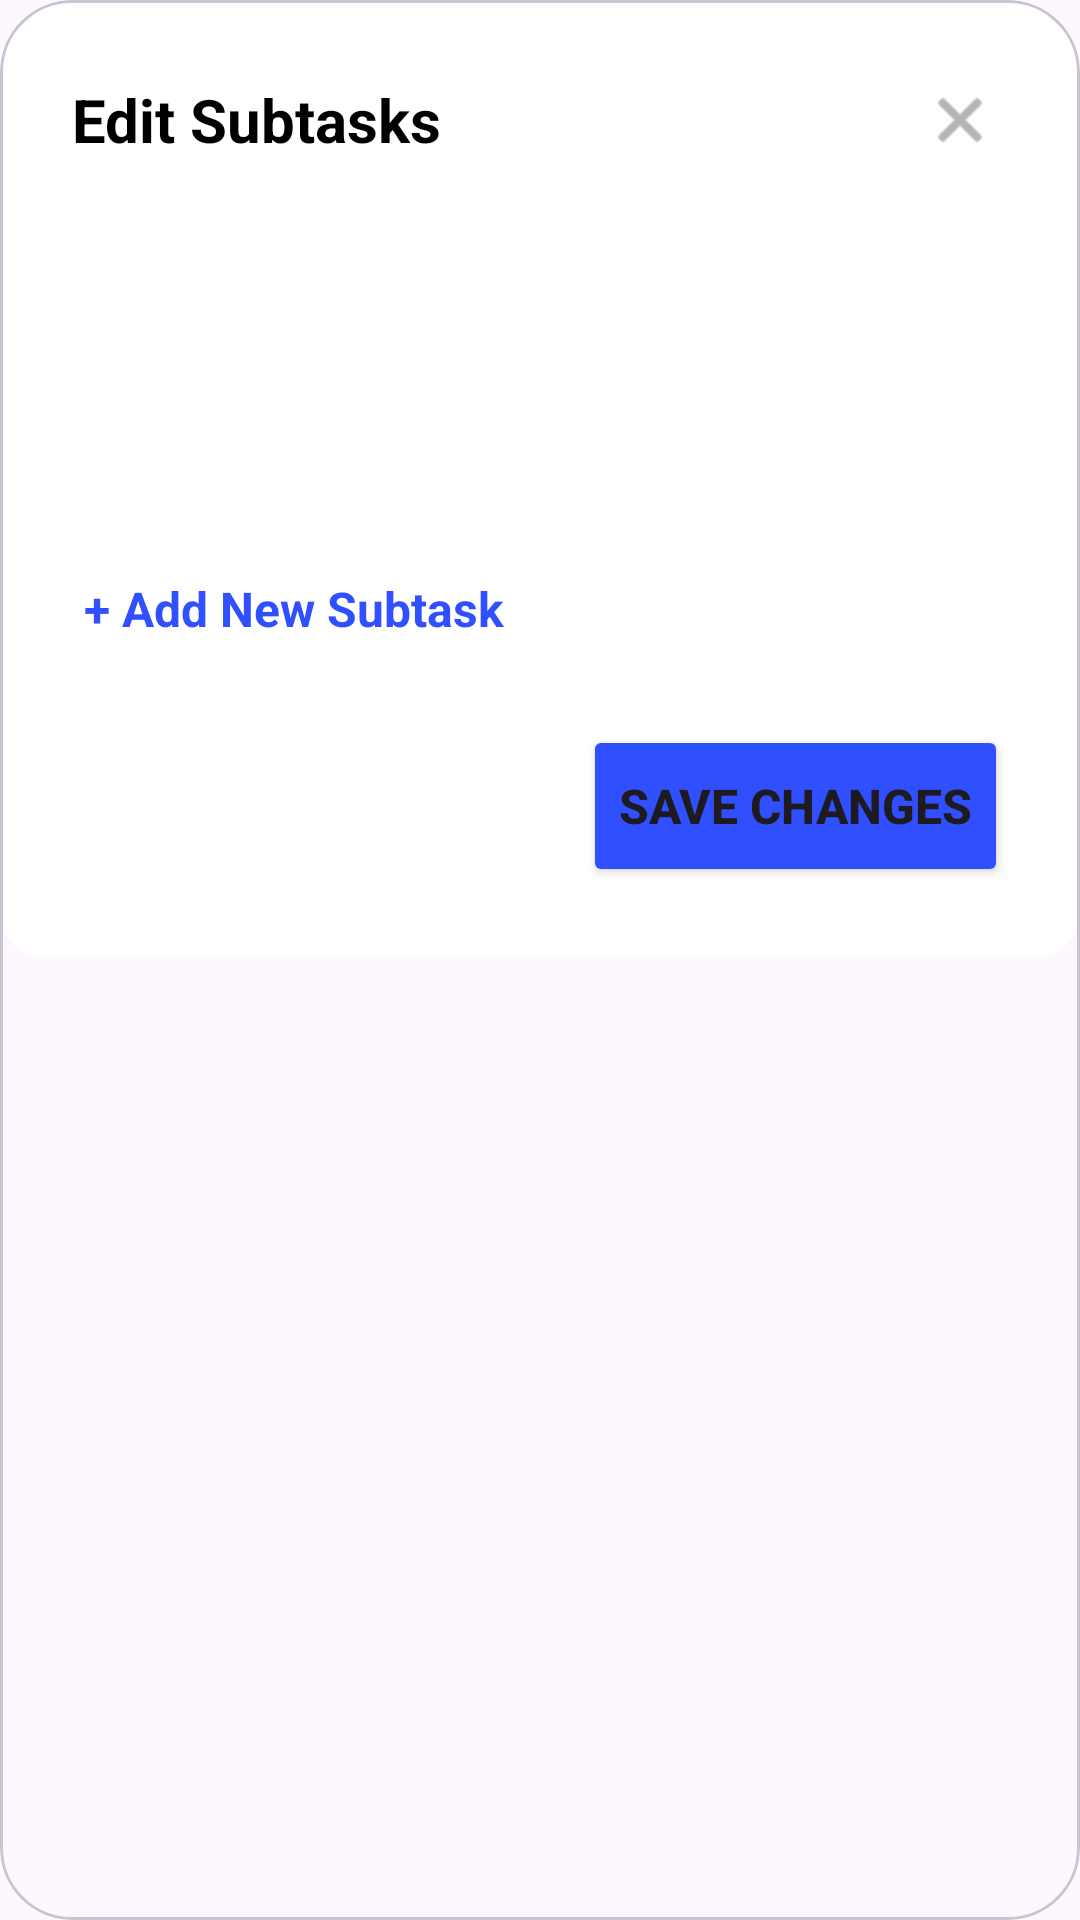

Screen size 1080 × 1920. Icon name, then its center in pixels as [x,y]:
close clear cancel: [960,120]
